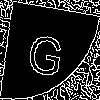G: (25, 24, 66, 78)
